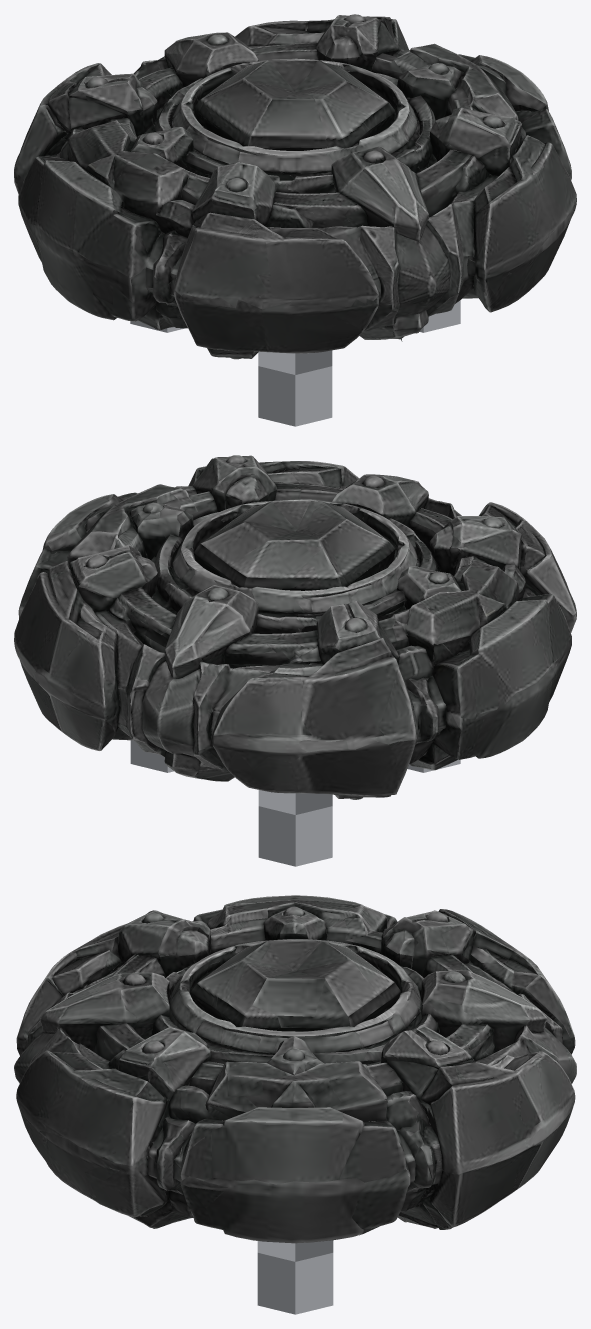
Rendered from iron.glb.
3 views of the same model, one above another, from view 1: azimuth 30°, elevation 25°; view 2: azimuth 150°, elevation 25°; view 3: azimuth 270°, elevation 25° (orthographic). The views are drawn at different scales.
Parts seen in each view (by area): view 1: mesh_node; view 2: mesh_node; view 3: mesh_node.
Part boxes in pixels (left/top/right/bottom): mesh_node: left=14, top=14, right=576, bottom=426; mesh_node: left=14, top=455, right=576, bottom=866; mesh_node: left=14, top=895, right=576, bottom=1314.
Bounding box in the file's own units: 19.6 × 10.34 × 19.34.
2 materials, 1 textured.
